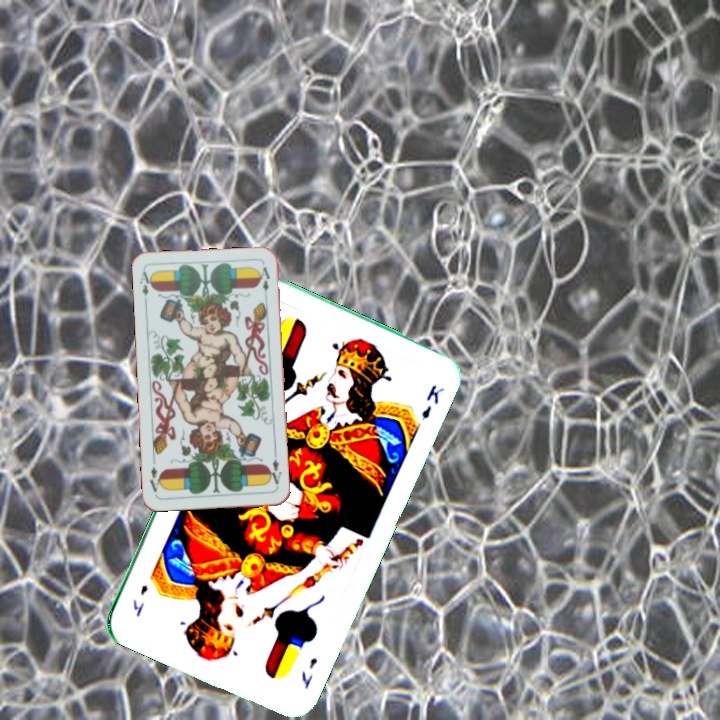EA: (135, 267, 155, 307), (265, 449, 284, 486)
EK: (297, 653, 320, 691)
